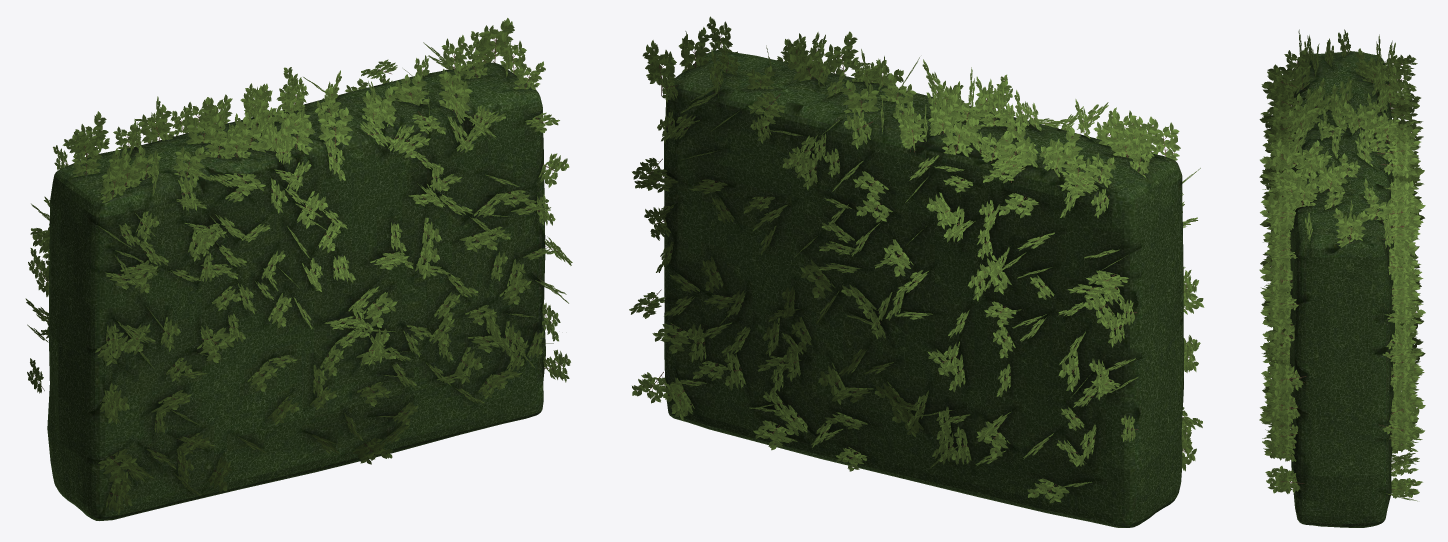
Rendered from dg_parede_sebe.glb.
3 renders of one model, left to right at view 1: azimuth 30°, elevation 25°; view 2: azimuth 150°, elevation 25°; view 3: azimuth 270°, elevation 25°, orthographic. The views are drawn at different scales.
Visible parts, largest first — view 1: dg_parede_sebe_tronco, sebe_folhas; view 2: dg_parede_sebe_tronco, sebe_folhas; view 3: dg_parede_sebe_tronco, sebe_folhas.
Boxes of the visible parts, <box> form: dg_parede_sebe_tronco: <box>47,62,545,520</box>; sebe_folhas: <box>25,18,572,514</box>; dg_parede_sebe_tronco: <box>664,50,1183,527</box>; sebe_folhas: <box>629,16,1204,503</box>; dg_parede_sebe_tronco: <box>1290,51,1395,527</box>; sebe_folhas: <box>1259,29,1425,501</box>.
Size of the model in its own units: 4.28 by 3.12 by 1.57.
2 materials, 2 textured.
